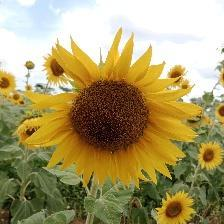sunflower: (31, 42, 200, 188)
